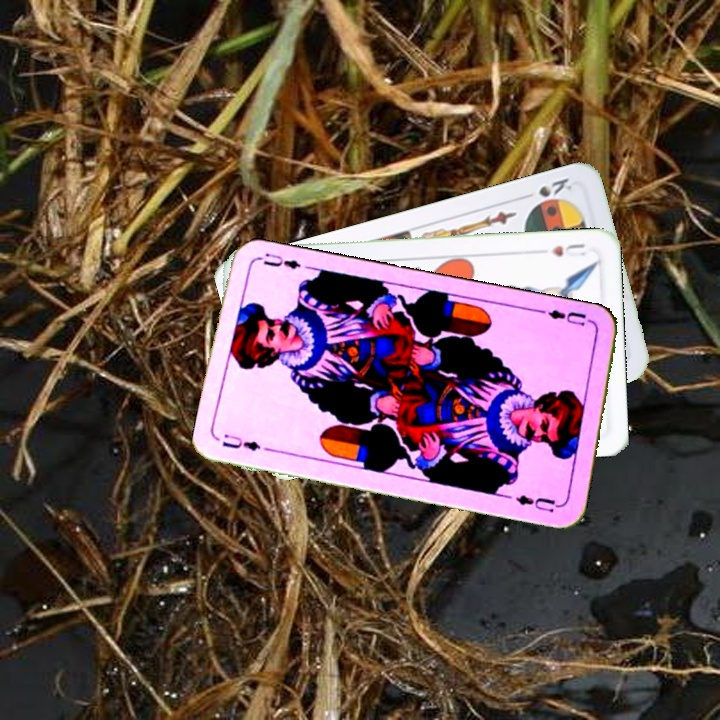EU: (544, 305, 596, 329), (218, 430, 264, 454)
HU: (547, 240, 588, 259)
SK: (528, 174, 575, 210)
